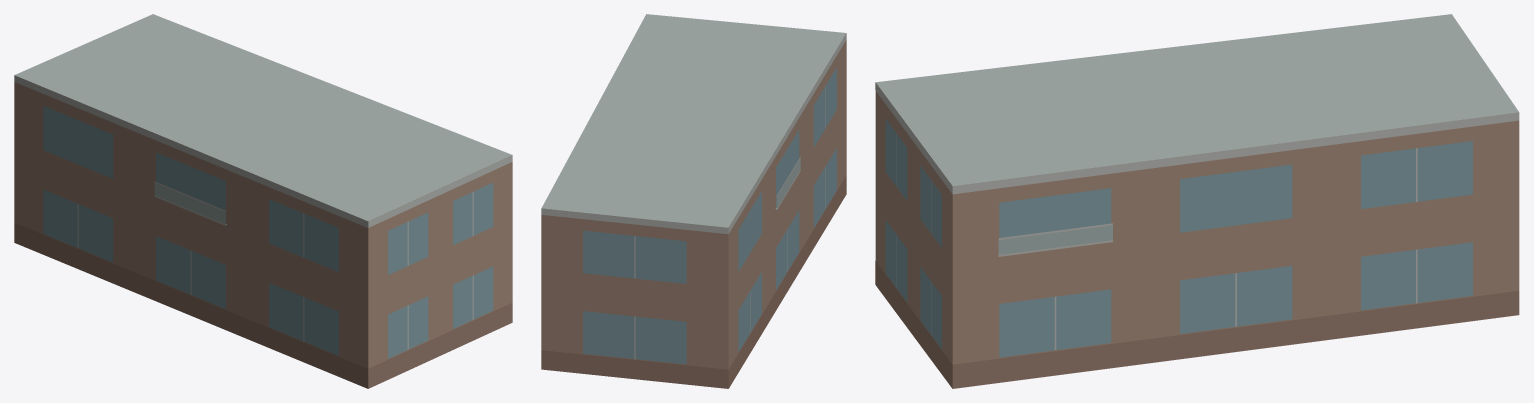
The model's file is survey-upis-32585120.glb.
The picture shows the model from 3 angles, left to right: view 1: azimuth 30°, elevation 25°; view 2: azimuth 150°, elevation 25°; view 3: azimuth 270°, elevation 25°; orthographic projection. The views are drawn at different scales.
Visible parts, largest first — view 1: survey-upis-32585120.tmp; view 2: survey-upis-32585120.tmp; view 3: survey-upis-32585120.tmp.
Boxes of the visible parts, <box> form: survey-upis-32585120.tmp: <box>14,14,512,388</box>; survey-upis-32585120.tmp: <box>541,14,846,388</box>; survey-upis-32585120.tmp: <box>875,14,1519,388</box>.
Bounding box in the file's own units: 11.14 × 6.1 × 17.58.
